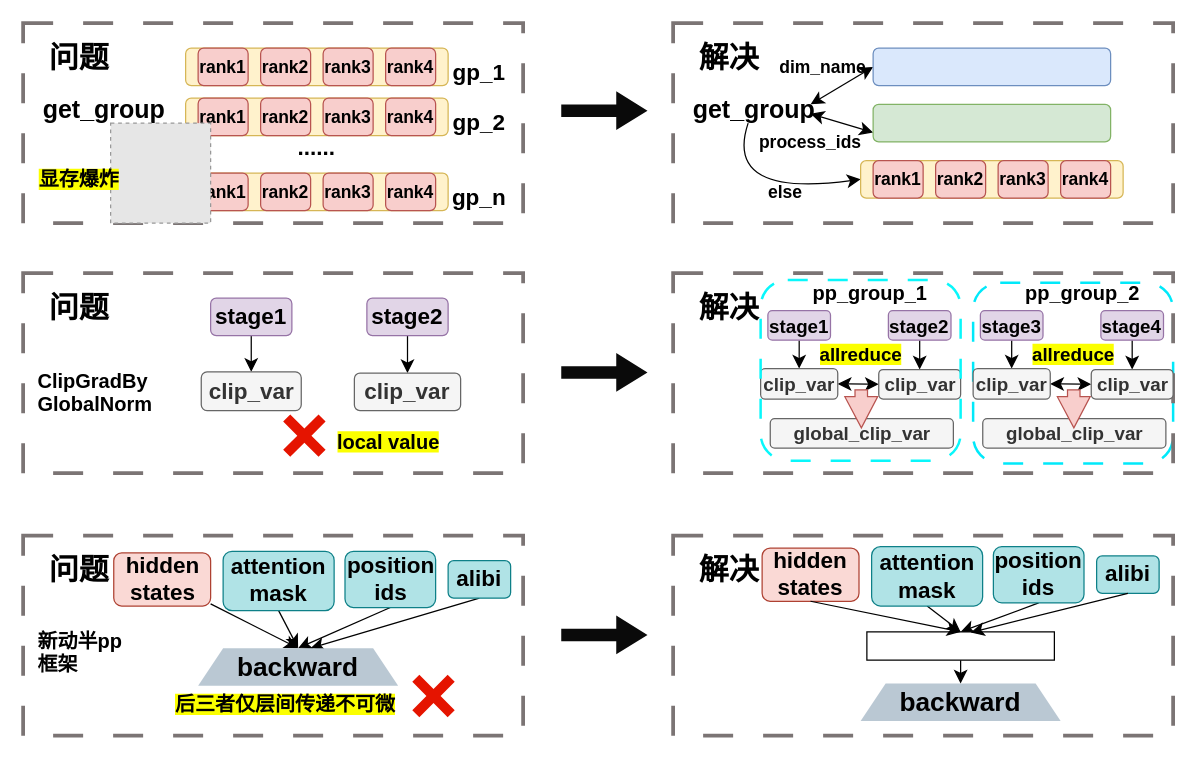
Image size: 1196x759. Some labels were removed from this diagram. Grey dashed boxes stand in for pictures. Here are the shapes that lost their labels. From the top down, the centre of each, then its label:
At (x=991, y=66): "hcg".
At (x=991, y=122): "group_map".
At (x=960, y=645): "filter".
